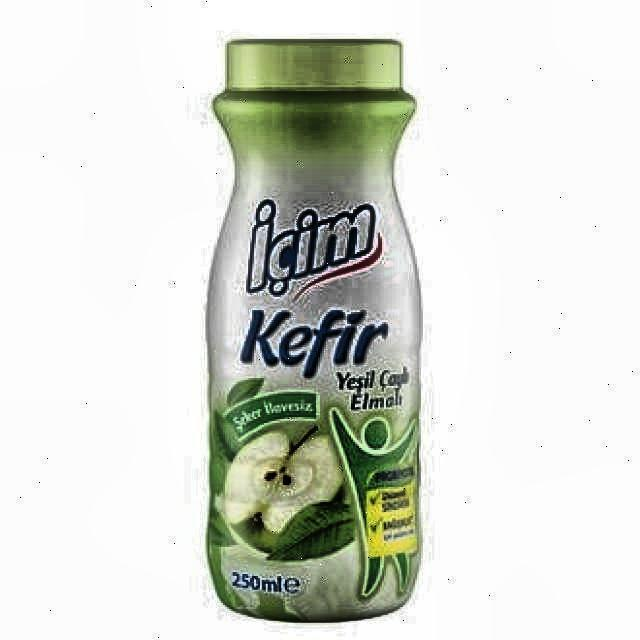plastic: (204, 37, 424, 626)
